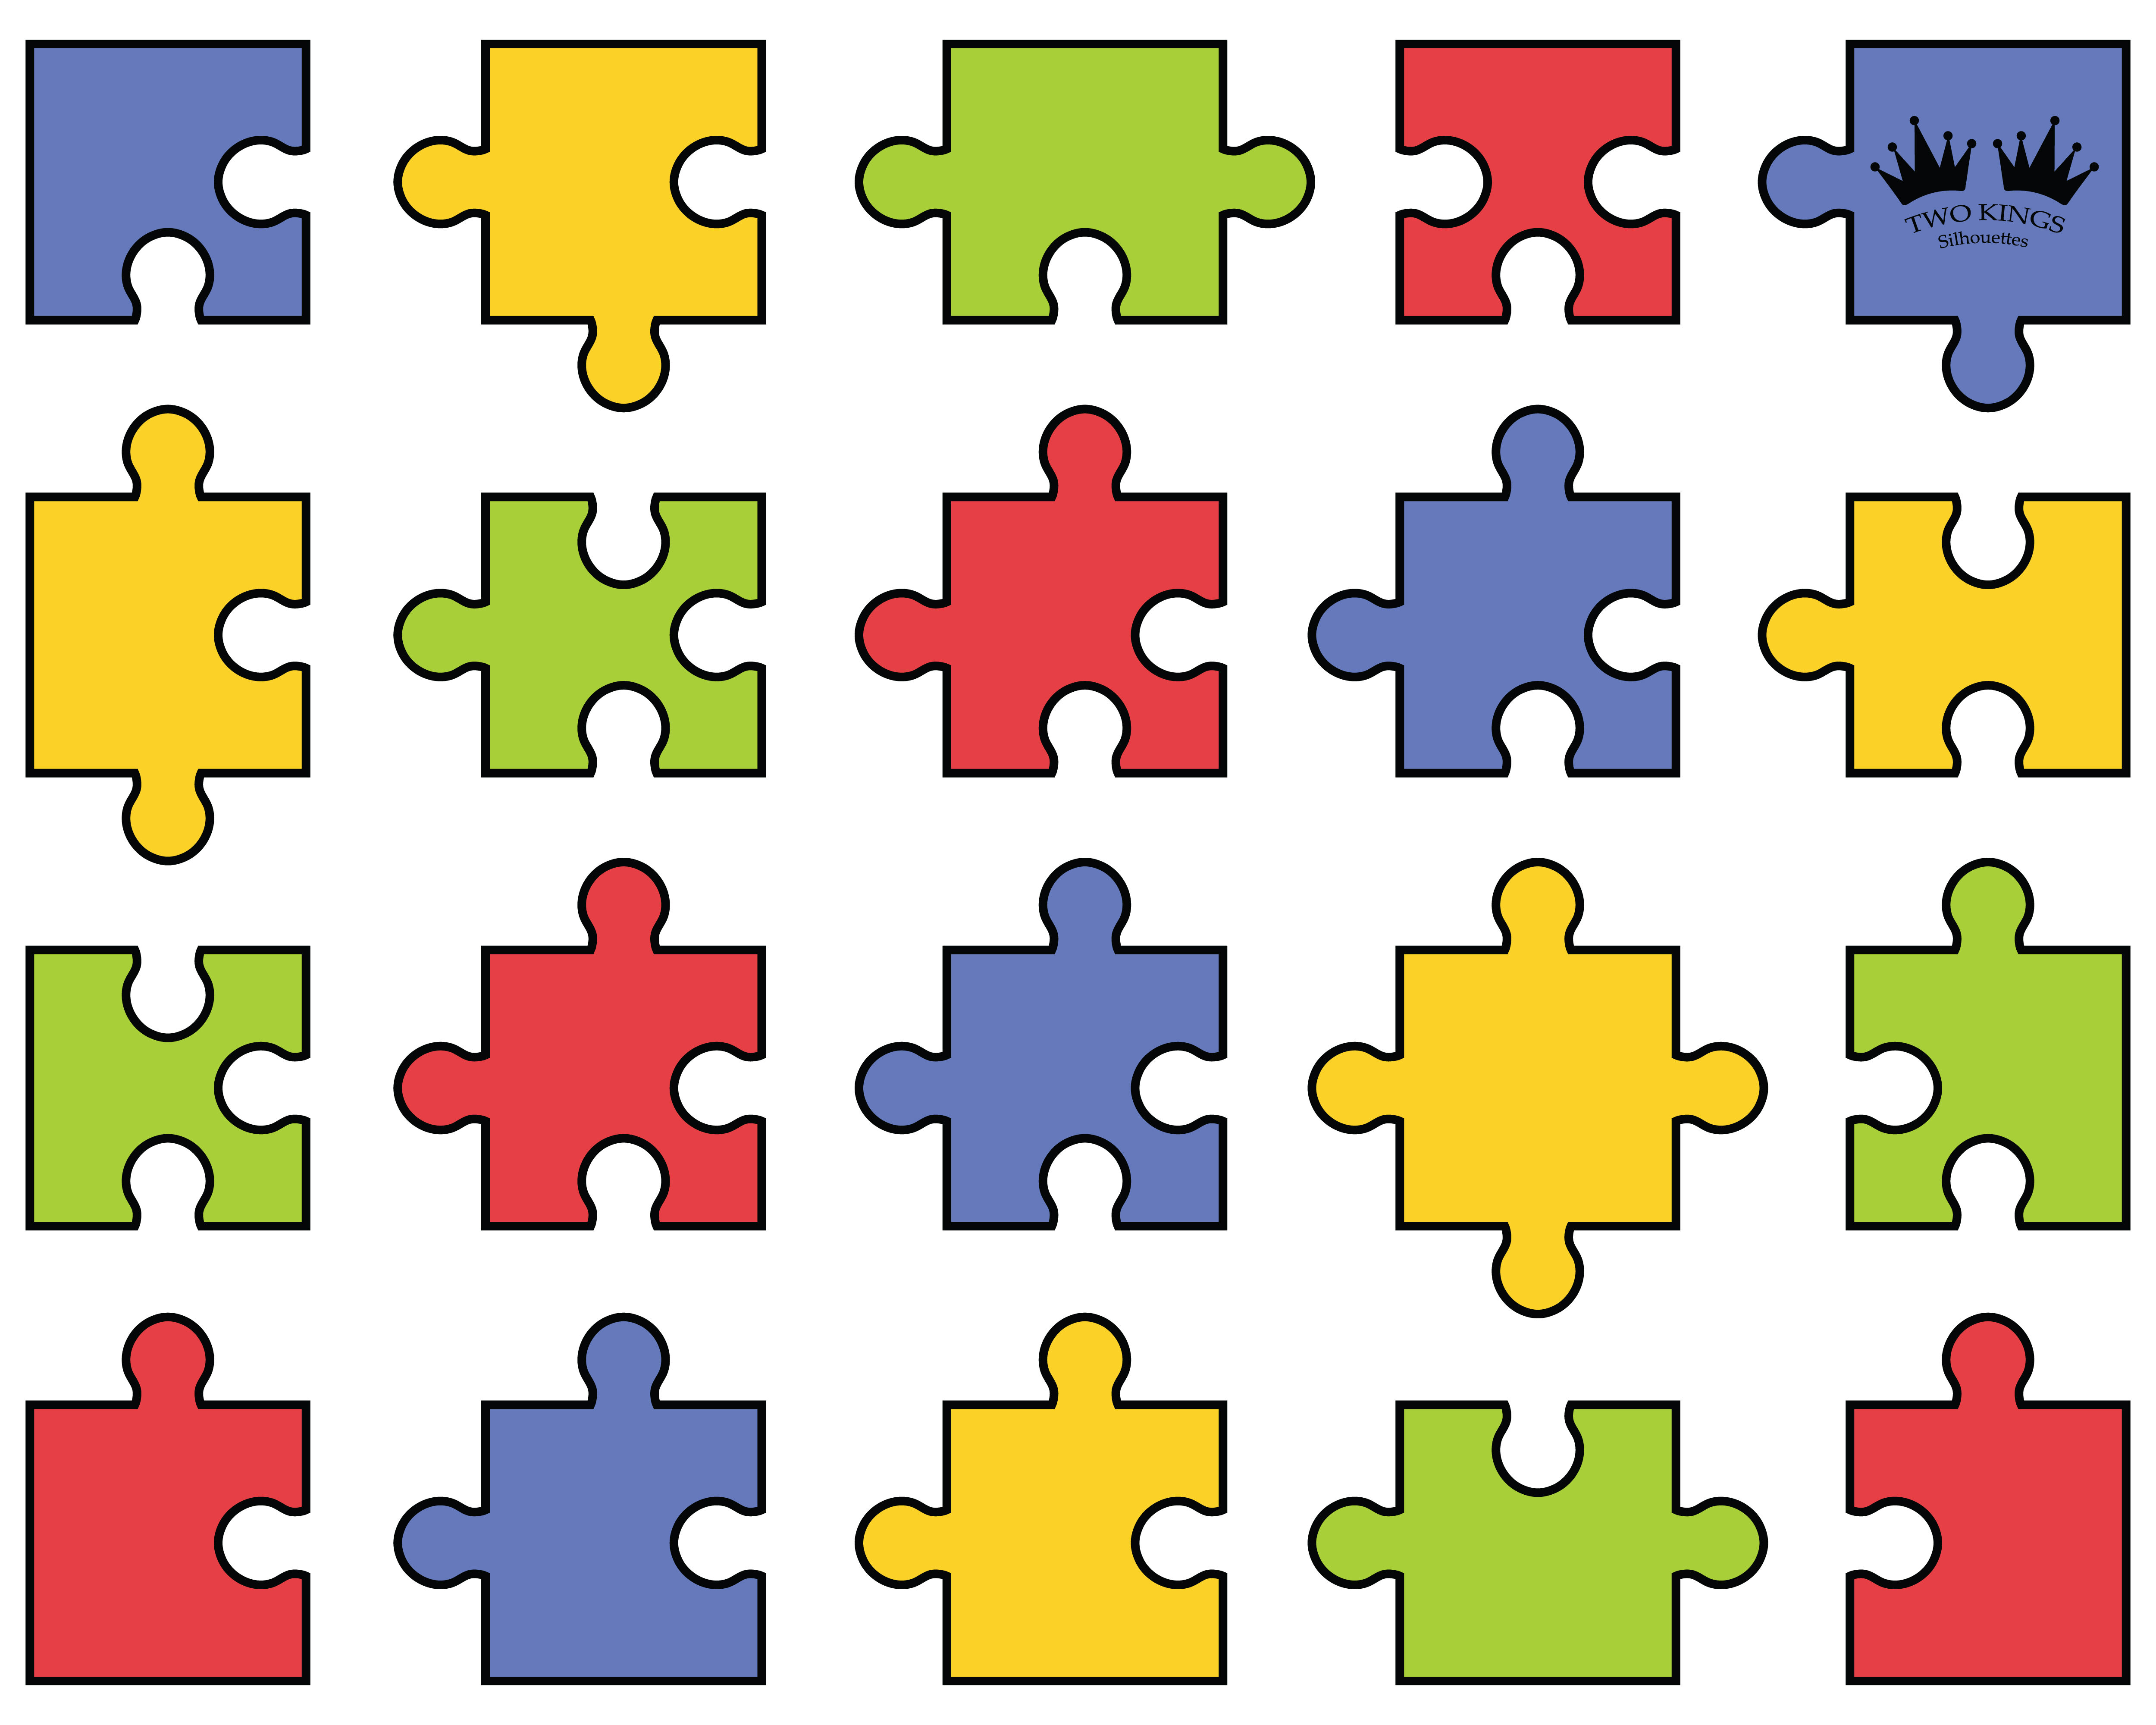puzzle piece: (1301, 857, 1785, 1340), (843, 829, 1278, 1250), (1294, 1359, 1793, 1716), (1311, 375, 1707, 817), (843, 1288, 1262, 1704), (831, 4, 1331, 349), (382, 847, 790, 1257), (845, 408, 1253, 808), (380, 14, 803, 394), (1739, 21, 2151, 410), (378, 433, 797, 815), (382, 1318, 813, 1686), (14, 391, 343, 864), (1822, 1281, 2156, 1713), (7, 1317, 368, 1704), (1815, 841, 2144, 1266), (1753, 470, 2147, 785), (1368, 7, 1714, 347), (14, 926, 334, 1253)
